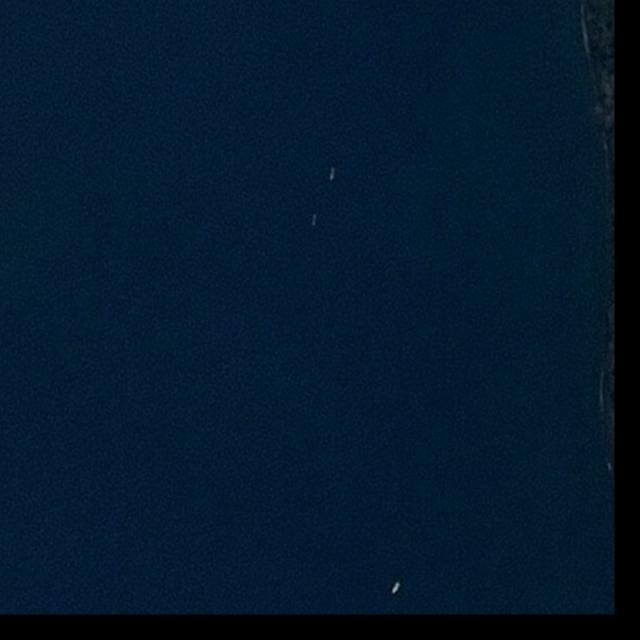ship: (391, 581, 402, 596), (328, 167, 337, 182), (312, 214, 317, 226)
